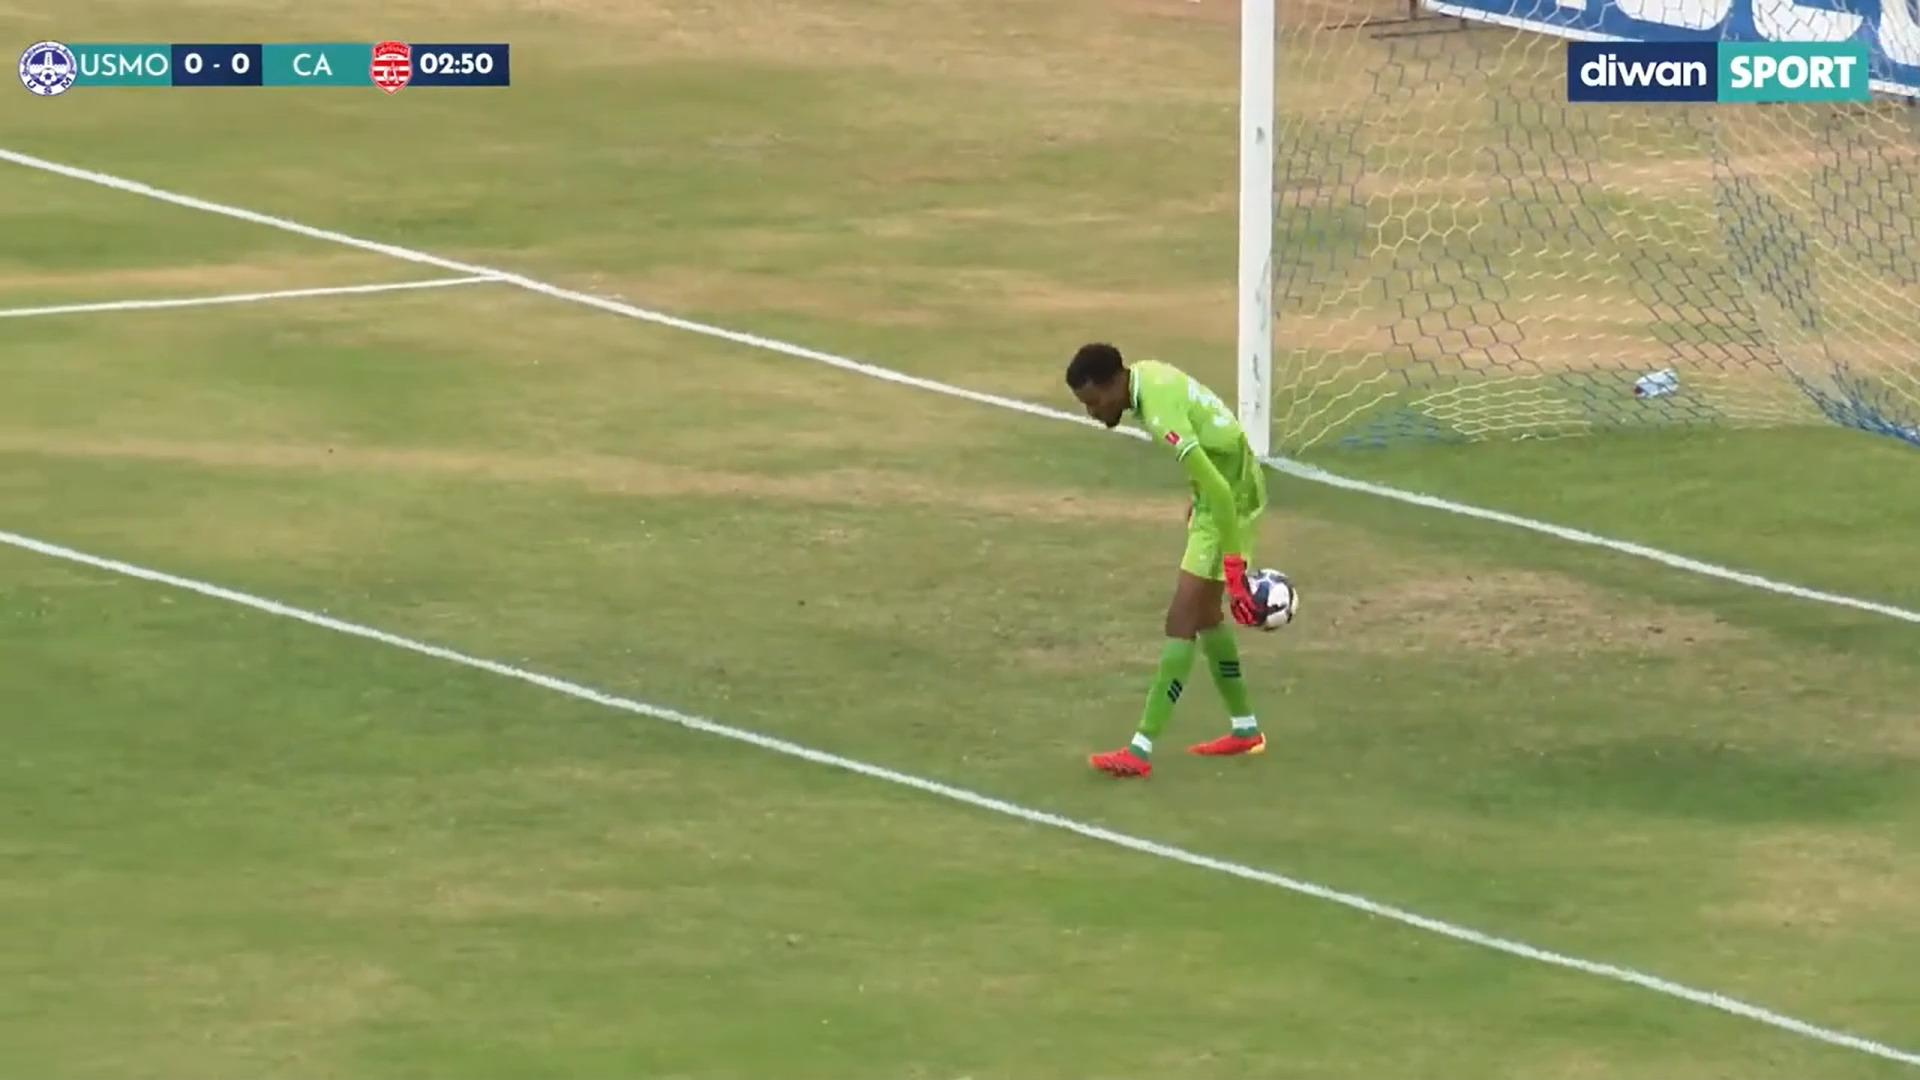ball: (1230, 549, 1311, 637)
goalkeeper: (1038, 306, 1313, 793)
